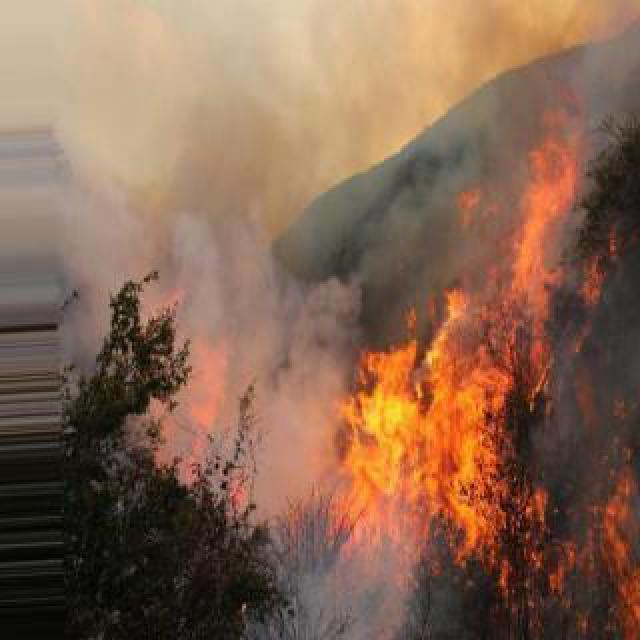Fire: (350, 328, 518, 544), (518, 140, 552, 416), (420, 546, 518, 618), (442, 250, 518, 326), (554, 142, 584, 266), (584, 222, 616, 304)
Smoke: (172, 200, 372, 486), (276, 542, 418, 638)
